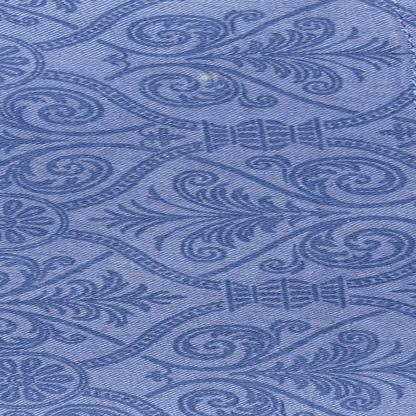spot: (196, 68, 226, 83)
